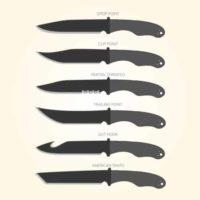knife: (22, 99, 187, 133), (32, 40, 176, 71), (27, 74, 175, 104), (28, 137, 181, 164), (27, 167, 177, 194), (33, 12, 179, 38)
